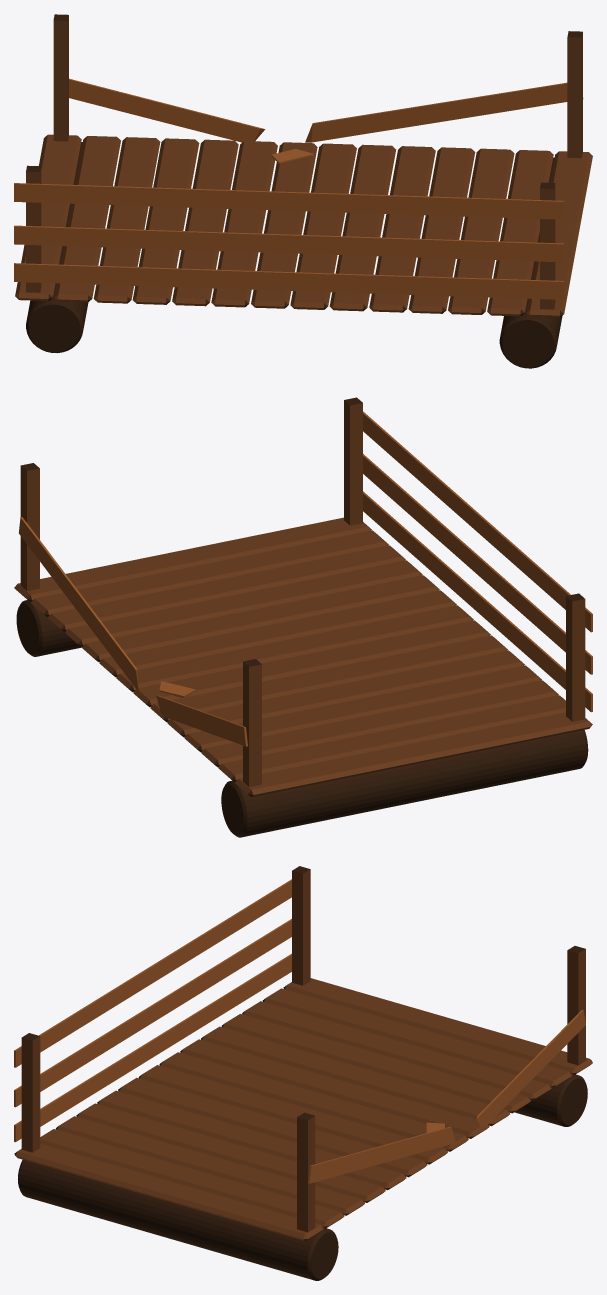
The model's file is WoodPlatForm1.fbx.
3 views of the same model, one above another, from view 1: azimuth 30°, elevation 25°; view 2: azimuth 150°, elevation 25°; view 3: azimuth 270°, elevation 25° (orthographic). The views are drawn at different scales.
Parts seen in each view (by area): view 1: Cube.023; view 2: Cube.023; view 3: Cube.023.
Boxes of the visible parts, x1,y1,x2,y2 form: Cube.023: [14, 14, 592, 368]; Cube.023: [14, 397, 592, 837]; Cube.023: [14, 866, 592, 1280].
Size of the model in its own units: 553 by 164 by 516.
